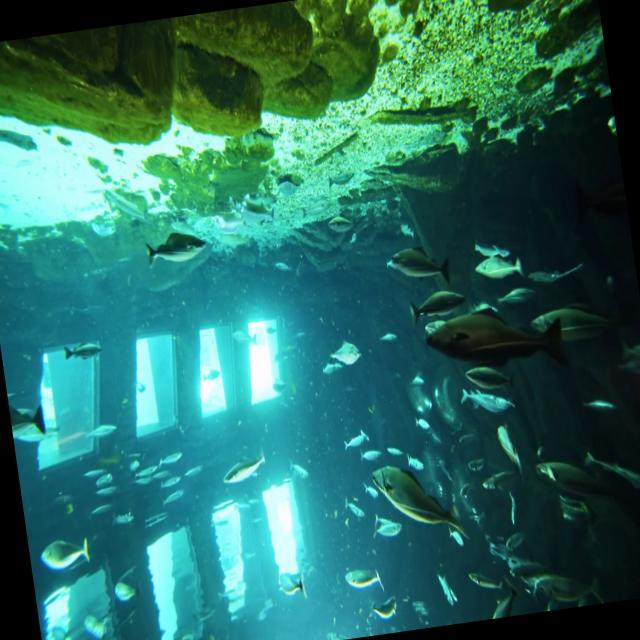fish: (420, 296, 571, 391), (372, 452, 467, 554), (520, 562, 606, 614), (386, 240, 454, 292), (143, 231, 208, 269), (458, 382, 517, 422), (39, 536, 91, 572), (221, 452, 268, 488), (473, 254, 524, 284), (344, 566, 386, 596), (61, 337, 106, 364), (280, 570, 310, 604)
